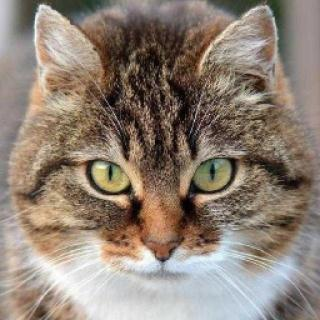cat: (25, 7, 287, 296)
nose: (137, 207, 188, 266)
